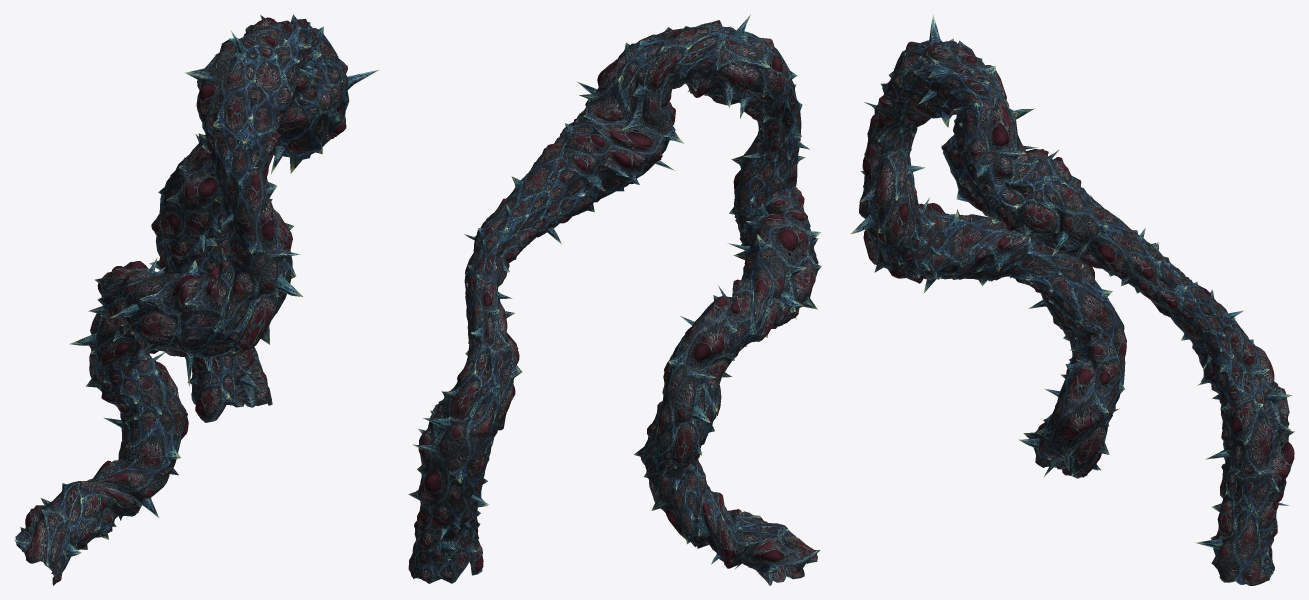
The model's file is L03_Heltree21.fbx.
3 renders of one model, left to right at view 1: azimuth 30°, elevation 25°; view 2: azimuth 150°, elevation 25°; view 3: azimuth 270°, elevation 25°, orthographic. The views are drawn at different scales.
Parts seen in each view (by area): view 1: LODGroup_1_MainMesh_1_SubMesh_1, LODGroup_1_MainMesh_1_SubMesh_2; view 2: LODGroup_1_MainMesh_1_SubMesh_1, LODGroup_1_MainMesh_1_SubMesh_2; view 3: LODGroup_1_MainMesh_1_SubMesh_1, LODGroup_1_MainMesh_1_SubMesh_2.
Part boxes in pixels (left/top/right/bottom): LODGroup_1_MainMesh_1_SubMesh_1: left=14, top=25, right=379, bottom=575; LODGroup_1_MainMesh_1_SubMesh_2: left=20, top=14, right=349, bottom=585; LODGroup_1_MainMesh_1_SubMesh_1: left=408, top=14, right=821, bottom=583; LODGroup_1_MainMesh_1_SubMesh_2: left=428, top=20, right=805, bottom=585; LODGroup_1_MainMesh_1_SubMesh_1: left=850, top=15, right=1294, bottom=585; LODGroup_1_MainMesh_1_SubMesh_2: left=860, top=40, right=1294, bottom=569.
Size of the model in its own units: 1726 by 2622 by 2109.
